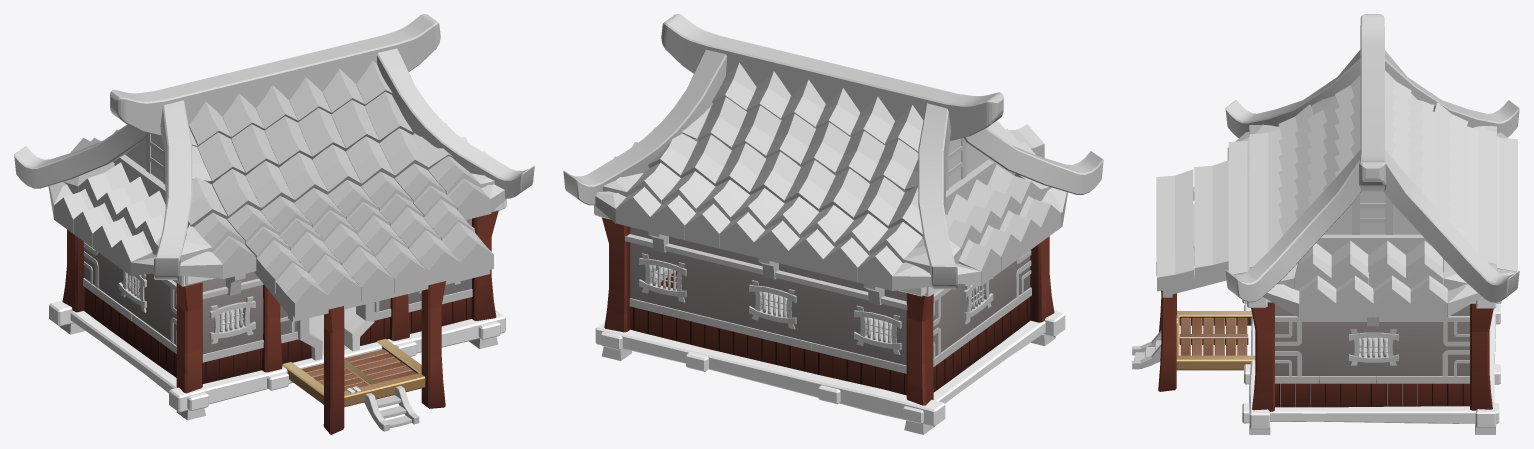
Rendered from housetest11.fbx.
The picture shows the model from 3 angles, left to right: view 1: azimuth 30°, elevation 25°; view 2: azimuth 150°, elevation 25°; view 3: azimuth 270°, elevation 25°; orthographic projection. The views are drawn at different scales.
Parts seen in each view (by area): view 1: middle log.004, roof log, wall, down beam.003, roof log.002, roof log.004, down log.002, roof log.003, log, down log, Cube.130, Cube.085 (+63 smaller); view 2: wall, roof log, down beam.003, middle log.004, down log.003, roof log.001, roof log.003, roof log.004, middle beam.002, down log, up beam.001, Cube.129 (+49 smaller); view 3: wall, middle log.004, roof log.001, roof log.002, down beam.003, roof log, down log.001, roof log.004, roof log.003, log, win1 window, middle beam.003 (+85 smaller).
Boxes of the visible parts, box(x1,y1,x2,y2) form: middle log.004: box(62, 211, 498, 434); roof log: box(110, 14, 440, 136); wall: box(84, 218, 471, 354); down beam.003: box(84, 277, 471, 383); roof log.002: box(377, 48, 534, 198); roof log.004: box(154, 100, 192, 279); down log.002: box(169, 310, 505, 412); roof log.003: box(14, 124, 148, 188); log: box(282, 339, 425, 406); down log: box(70, 311, 208, 410); Cube.130: box(275, 262, 327, 317); Cube.085: box(342, 246, 394, 301); wall: box(630, 227, 1030, 365); roof log: box(661, 14, 1003, 140); down beam.003: box(630, 271, 1030, 395); middle log.004: box(602, 217, 1054, 405); down log.003: box(595, 322, 945, 426); roof log.001: box(563, 49, 726, 205); roof log.003: box(918, 103, 957, 289); roof log.004: box(964, 128, 1103, 194); middle beam.002: box(629, 298, 906, 373); down log: box(903, 310, 1058, 423); up beam.001: box(625, 234, 907, 309); Cube.129: box(801, 122, 850, 175); wall: box(1275, 304, 1469, 379); middle log.004: box(1158, 290, 1493, 411); roof log.001: box(1383, 150, 1519, 302); roof log.002: box(1225, 150, 1361, 302); down beam.003: box(1275, 255, 1469, 407); roof log: box(1359, 14, 1386, 191); down log.001: box(1242, 403, 1499, 423); roof log.004: box(1225, 50, 1360, 138); roof log.003: box(1385, 50, 1519, 137); log: box(1176, 311, 1255, 370); win1 window: box(1324, 191, 1420, 234); middle beam.003: box(1275, 376, 1469, 383).
Bounding box in the file's own units: 1039 × 745 × 950.
